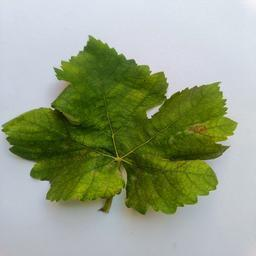Powdery-Mildew: (177, 162, 207, 200), (86, 168, 124, 196), (187, 119, 221, 140), (129, 87, 146, 103), (19, 115, 35, 132)
